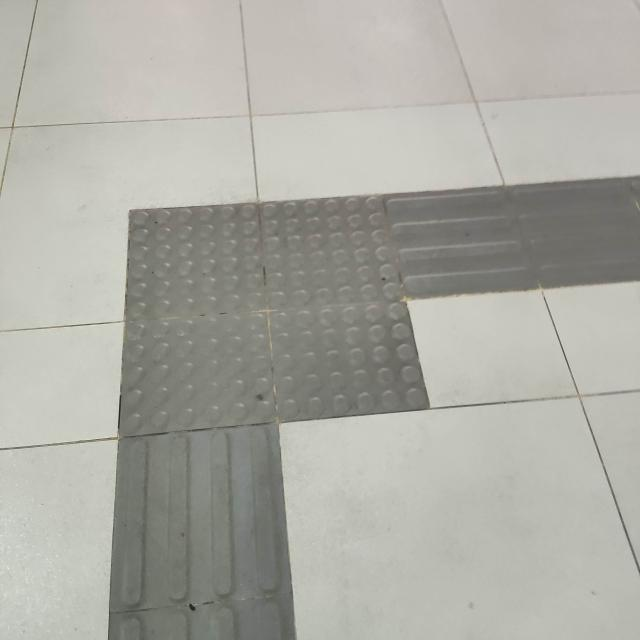kanan: (86, 168, 640, 494)
